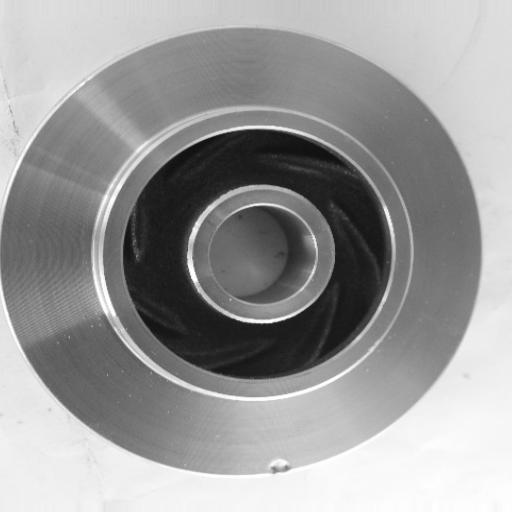crack: (259, 452, 295, 482)
unpolished_casting: (2, 26, 482, 476)
